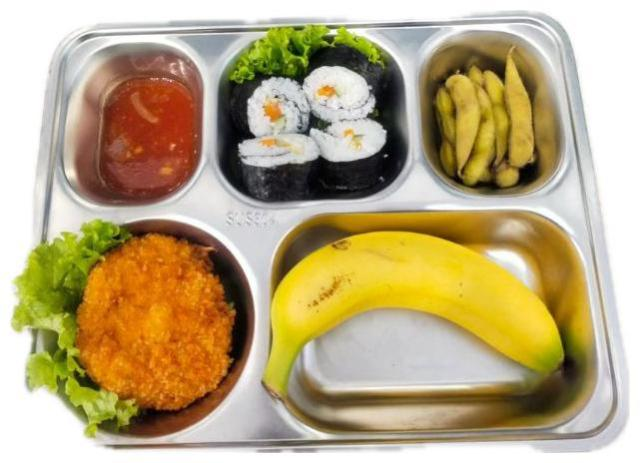ayam: (76, 234, 235, 410)
buah: (262, 231, 564, 401)
kacang: (434, 47, 538, 187)
nasi: (229, 26, 402, 201)
sayur: (12, 220, 132, 379)
